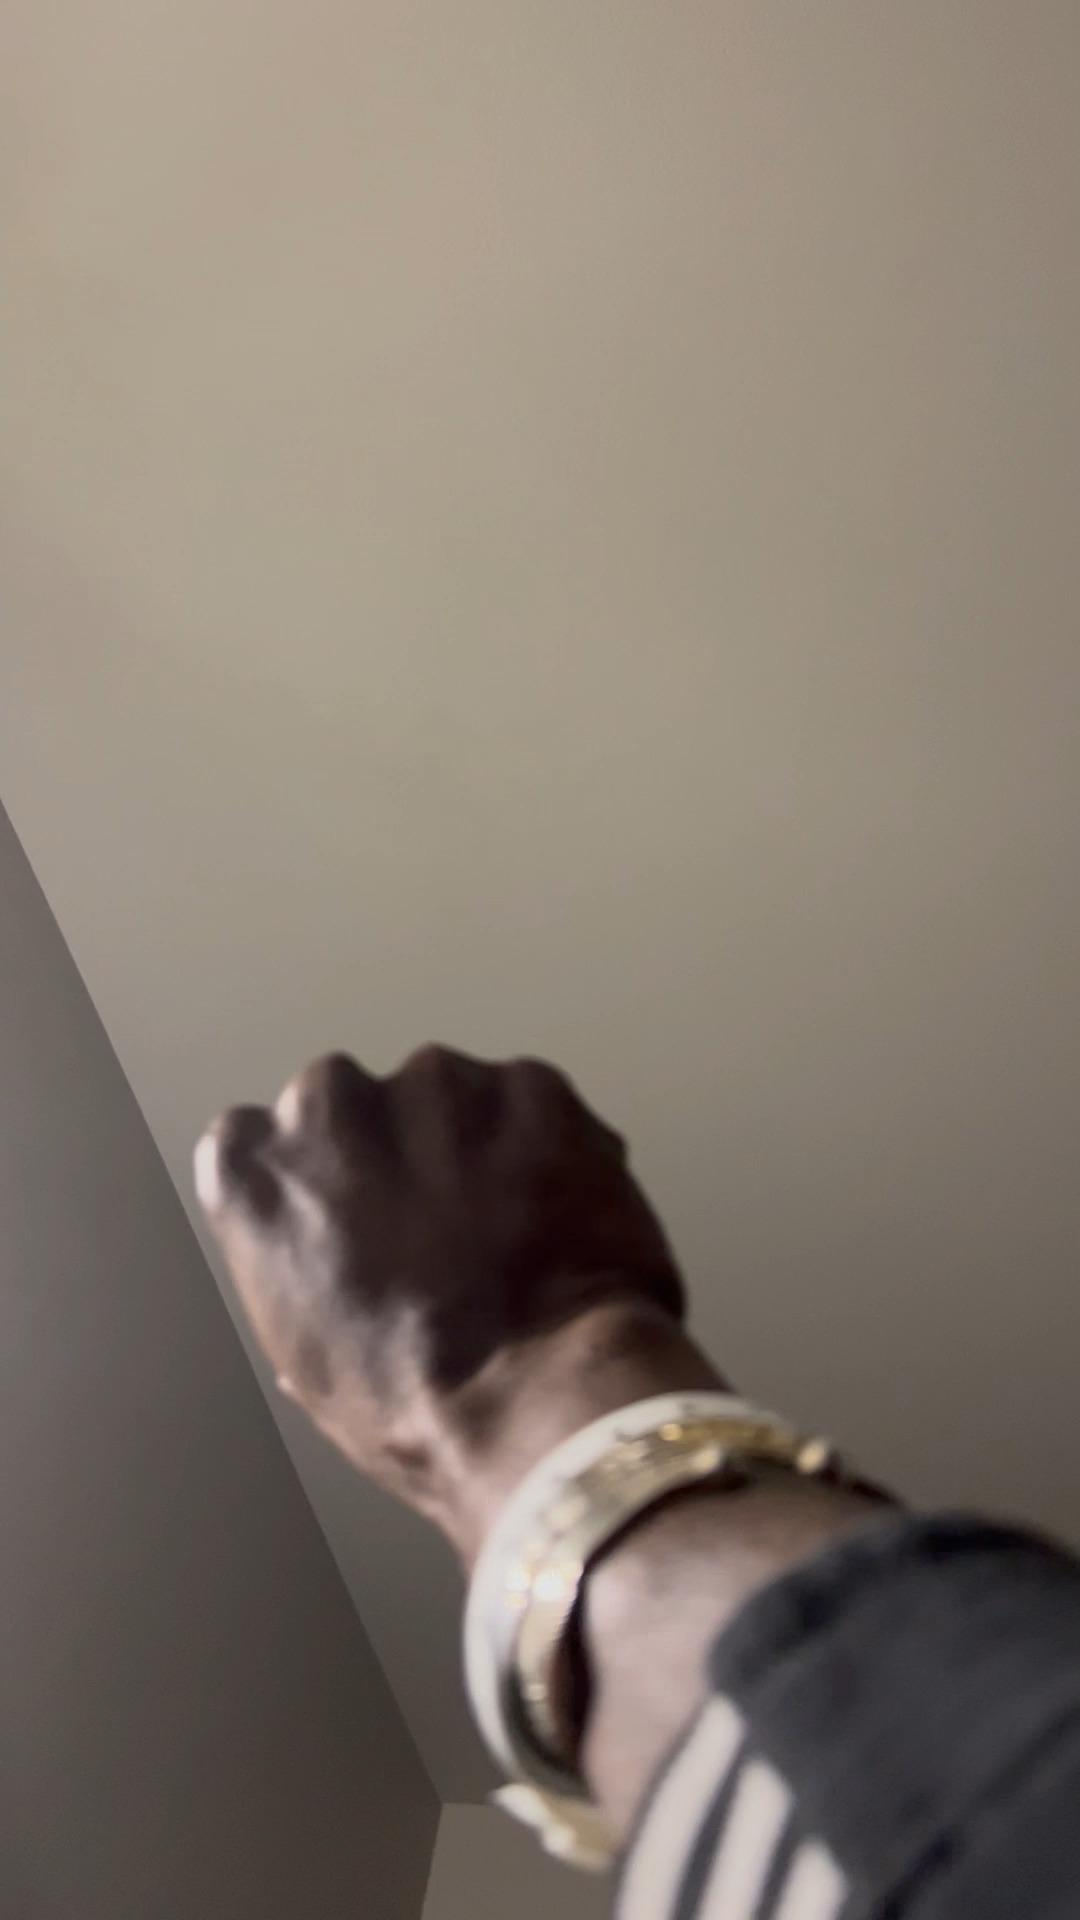Rock: (187, 1043, 690, 1489)
